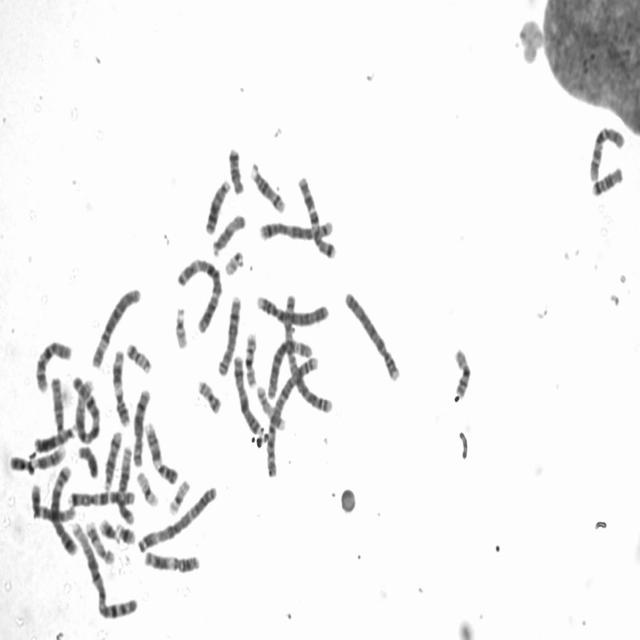A1: (67, 513, 139, 622), (69, 369, 103, 444)
A2: (262, 348, 320, 479), (279, 287, 335, 415)
A3: (134, 478, 220, 554), (173, 250, 224, 334)
B4: (341, 284, 402, 384), (253, 287, 331, 328)
B5: (48, 459, 80, 557), (255, 212, 336, 243)
C10: (585, 120, 627, 183), (32, 334, 74, 394)
C11: (108, 342, 132, 428), (141, 545, 202, 574)
C12: (27, 478, 78, 524), (114, 440, 136, 526)
C6: (88, 281, 142, 369), (264, 333, 314, 401)
C7: (294, 168, 338, 260), (64, 482, 137, 508)
C8: (214, 288, 243, 378), (129, 381, 153, 468)
C9: (140, 415, 180, 486), (6, 440, 67, 474)
D13: (202, 172, 232, 236), (29, 419, 78, 455)
D14: (246, 156, 288, 214), (101, 424, 124, 492)
D15: (208, 207, 248, 257), (48, 370, 66, 436)
E16: (449, 341, 473, 400), (241, 326, 259, 389)
E17: (254, 379, 288, 432), (82, 514, 116, 566)
E18: (588, 160, 625, 197), (224, 140, 247, 196)
F19: (165, 473, 192, 516), (134, 465, 160, 508)
F20: (194, 372, 223, 416), (122, 336, 154, 375)
G21: (96, 512, 122, 543), (112, 518, 137, 545)
G22: (170, 300, 190, 350), (222, 244, 246, 276)
X: (230, 348, 264, 436)
Y: (74, 440, 100, 480)
